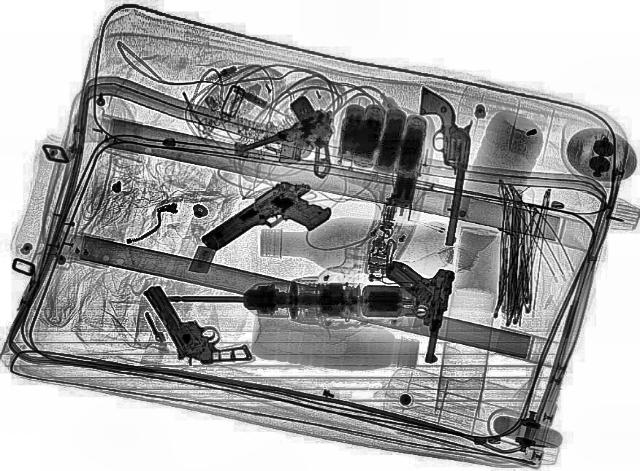Gun: (194, 173, 342, 273), (402, 86, 478, 246), (227, 110, 366, 196), (142, 272, 250, 373), (366, 260, 456, 364)
